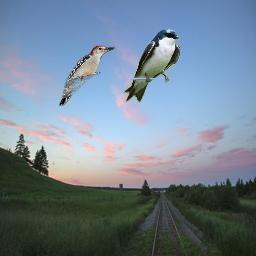Swallow: (123, 28, 180, 103)
Woodpecker: (59, 45, 115, 106)
